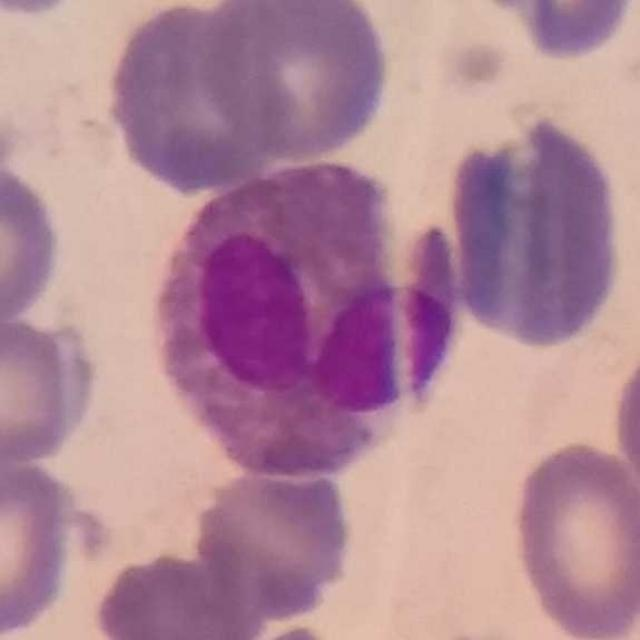Eosinophil: (146, 165, 470, 484)
RBC: (440, 110, 629, 355), (101, 0, 294, 197), (194, 0, 396, 165), (187, 453, 360, 622), (505, 436, 640, 640), (88, 546, 266, 640), (0, 310, 102, 468), (0, 447, 80, 639), (0, 157, 67, 329), (467, 0, 640, 66), (607, 353, 640, 479), (0, 0, 85, 21)
